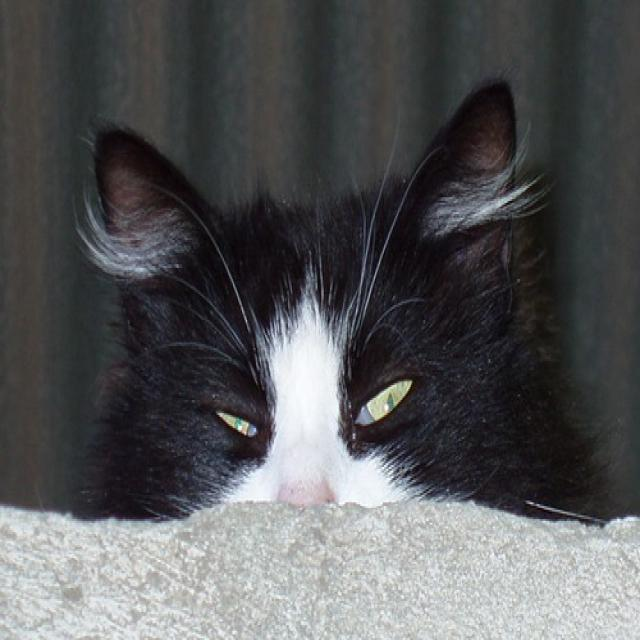left eye: (351, 372, 417, 430)
